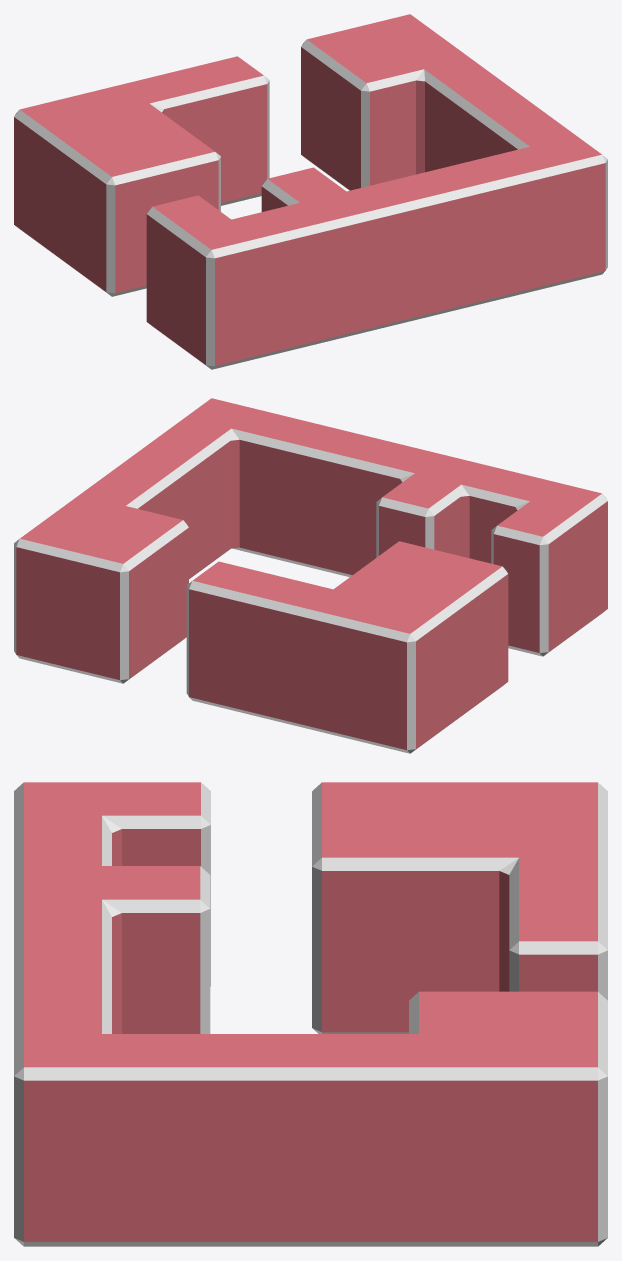
Rendered from Lvl3.fbx.
3 renders of one model, top to bottom at view 1: azimuth 30°, elevation 25°; view 2: azimuth 150°, elevation 25°; view 3: azimuth 270°, elevation 25°, orthographic. The views are drawn at different scales.
Visible parts, largest first — view 1: Cube.030; view 2: Cube.030; view 3: Cube.030.
Part boxes in pixels (x1,y1,x2,y2): Cube.030: (14,14,607,369); Cube.030: (14,398,607,753); Cube.030: (14,782,607,1246).
Size of the model in its own units: 7 by 1.99 by 5.98.
